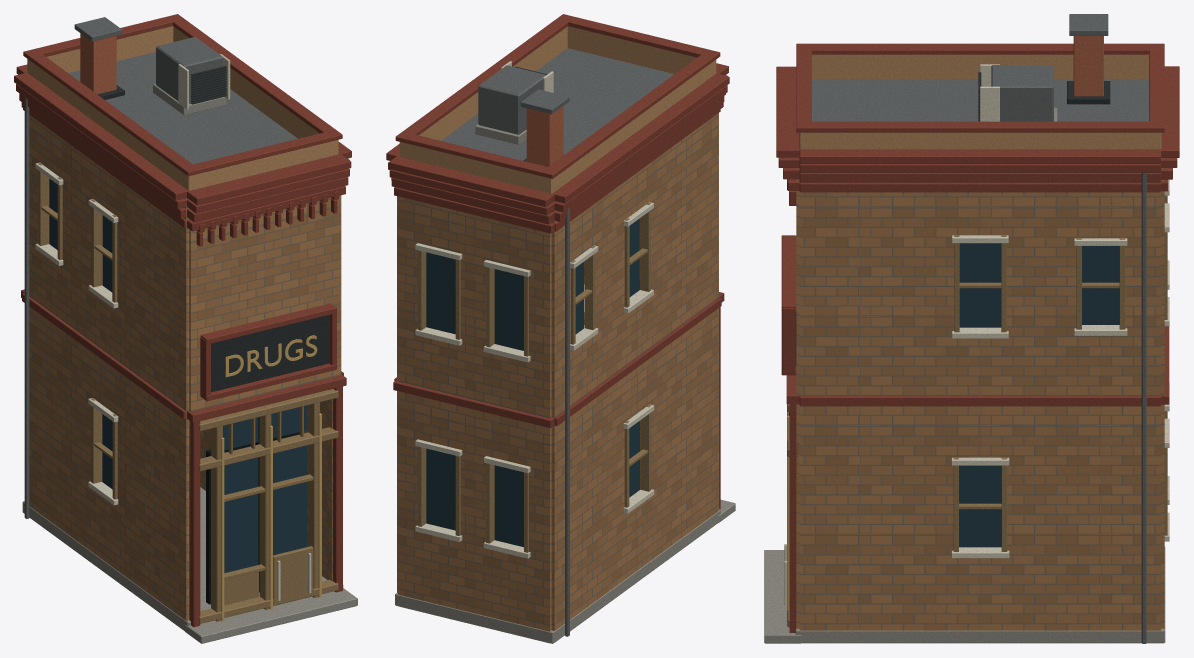
File: BUSS5_lod1.glb
The picture shows the model from 3 angles, left to right: view 1: azimuth 30°, elevation 25°; view 2: azimuth 150°, elevation 25°; view 3: azimuth 270°, elevation 25°; orthographic projection. The views are drawn at different scales.
Parts seen in each view (by area): view 1: BUSS5_LOD1; view 2: BUSS5_LOD1; view 3: BUSS5_LOD1.
Boxes of the visible parts, x1,y1,x2,y2 form: BUSS5_LOD1: (14, 14, 357, 643); BUSS5_LOD1: (386, 14, 735, 643); BUSS5_LOD1: (764, 14, 1179, 643).
Bounding box in the file's own units: 3.78 × 10.25 × 6.9.
Materials: 12 (9 with a texture image).
